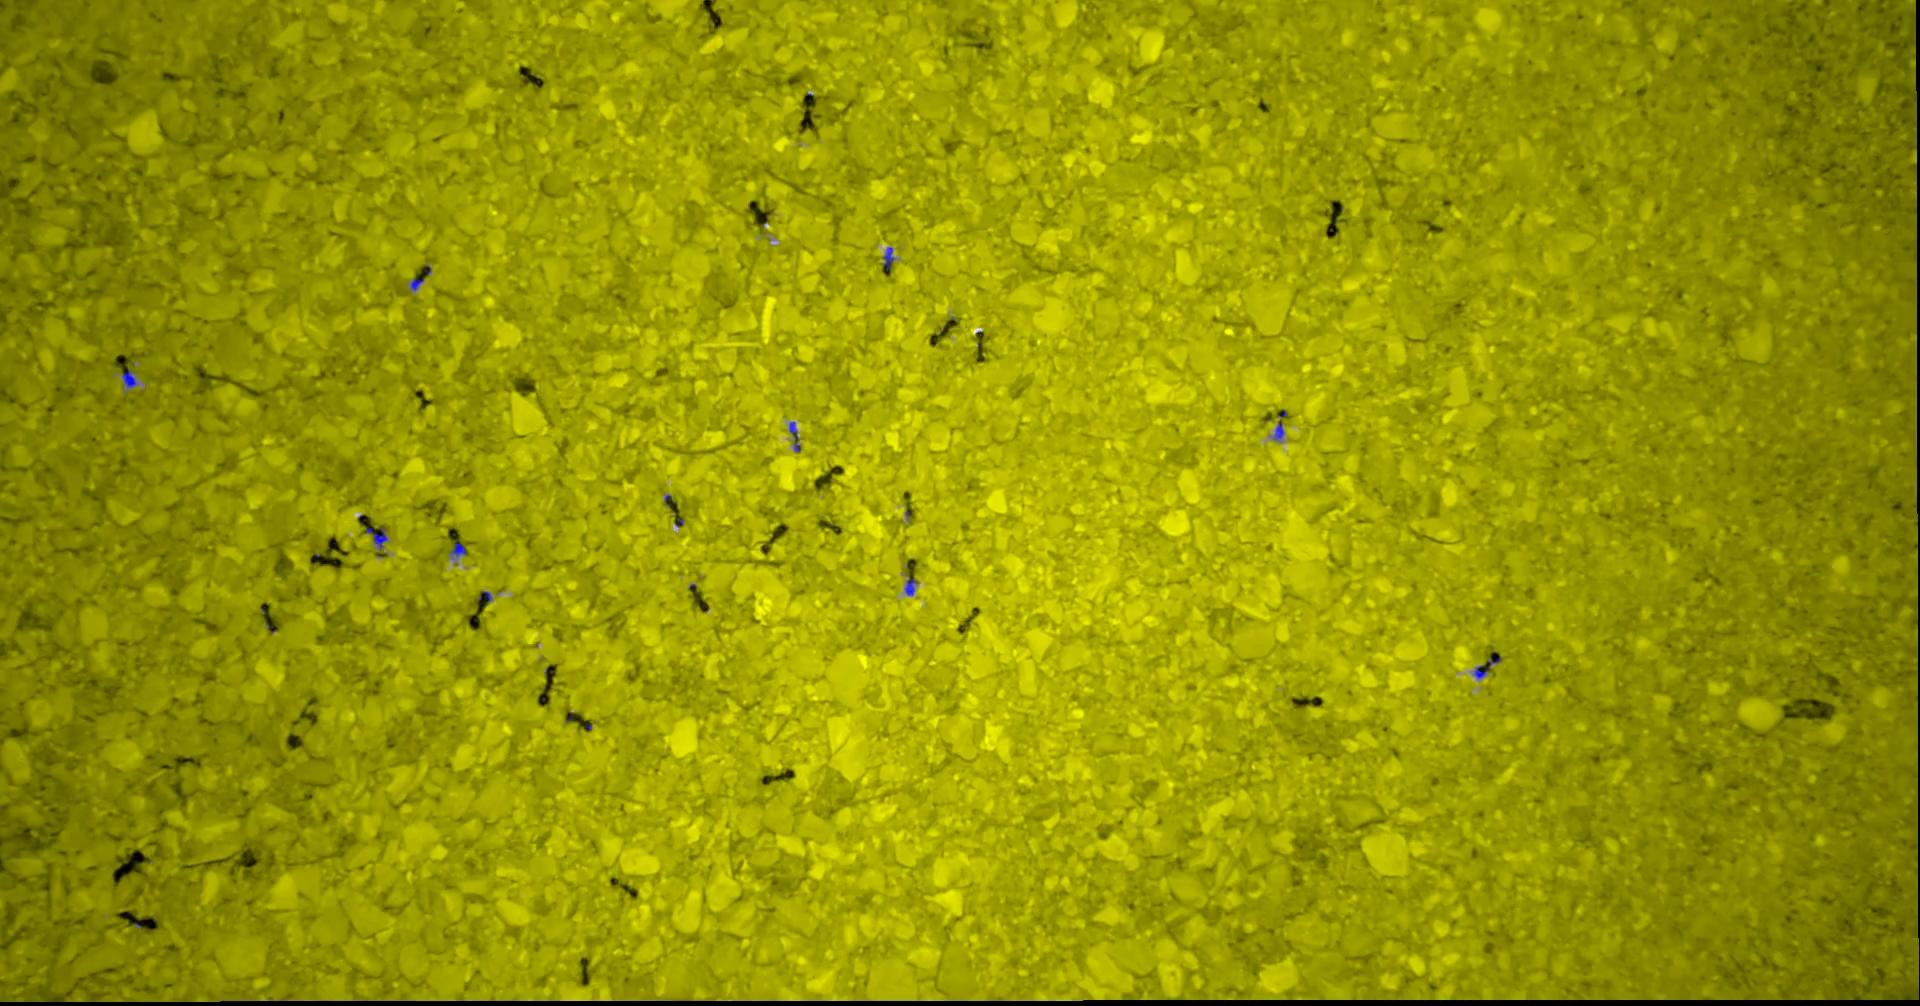ant: (364, 525, 387, 549), (789, 420, 799, 451), (121, 368, 136, 387), (450, 541, 466, 556), (883, 246, 894, 268), (904, 575, 916, 594), (1473, 666, 1487, 678), (1272, 423, 1283, 439)
